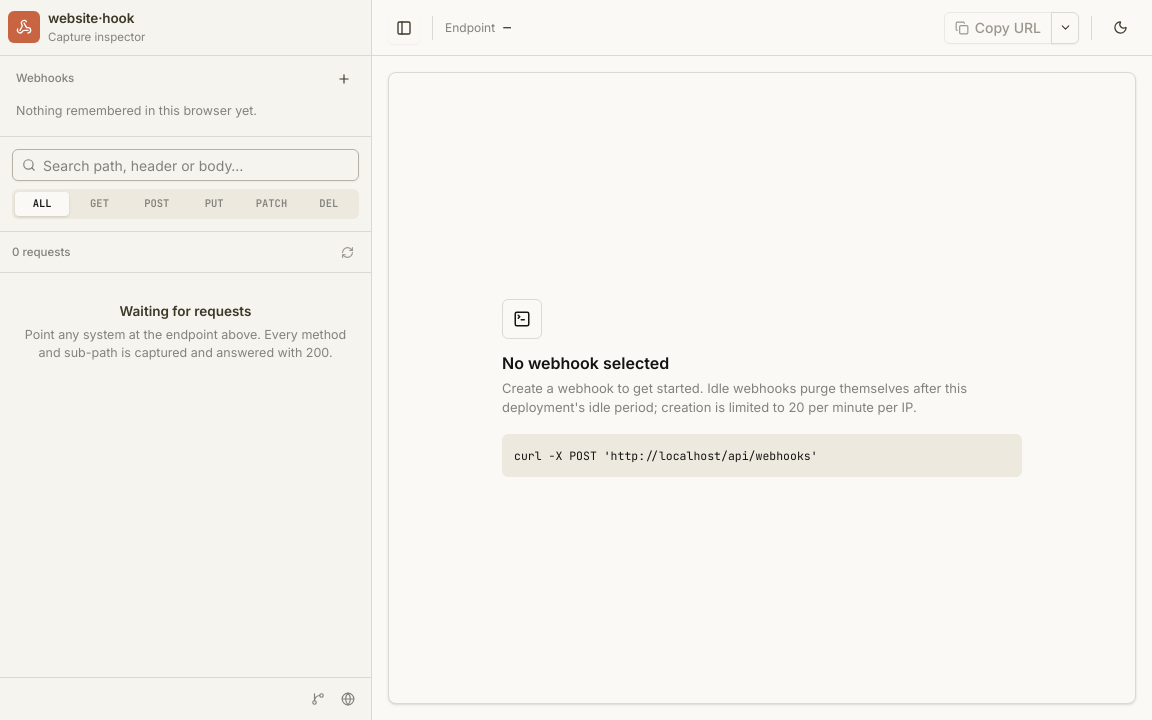
Test case: Inspector integration — create flow › shows the failure notice when the service is unreachable
The image size is (1152, 720).
Click the button named "New webhook".
click(344, 78)  # box [333,68,355,90]
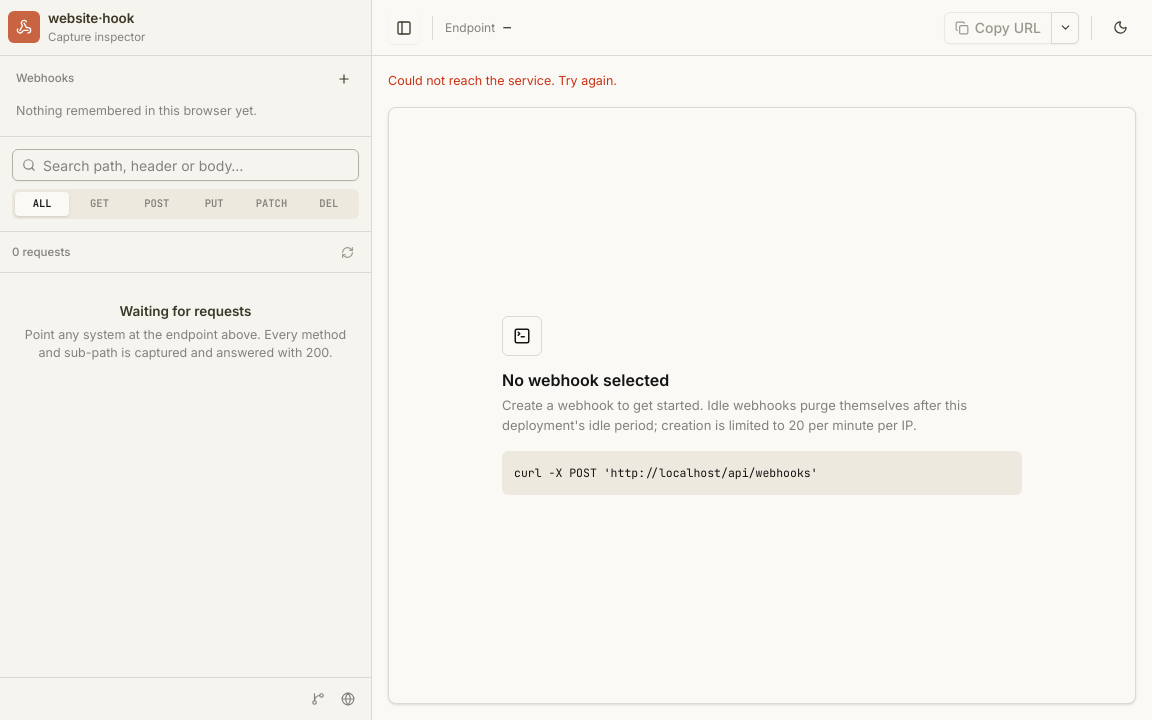
Now the text "Could not reach the service. Try again." is shown, box [388,73,617,88]
